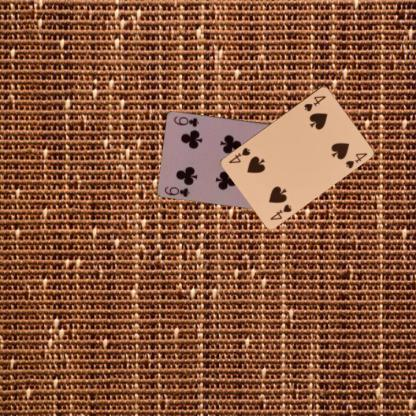4s: (302, 93, 328, 113), (267, 201, 293, 221)
6c: (162, 184, 191, 198)
